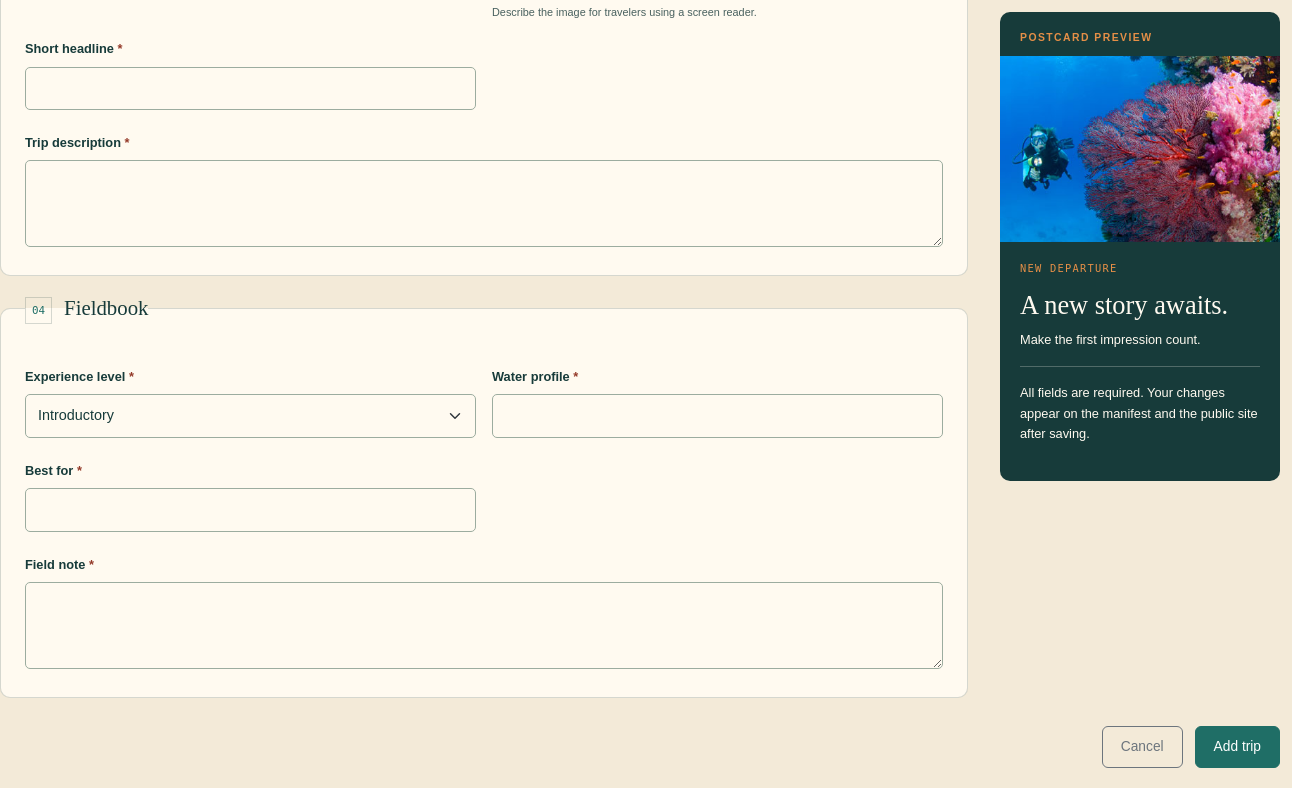
Test: Add trip › blocks invalid submission and displays field errors
(page scrolled)
Click the submit button: (1237, 747) x1=1195 y1=726 x2=1280 y2=768
(page scrolled)
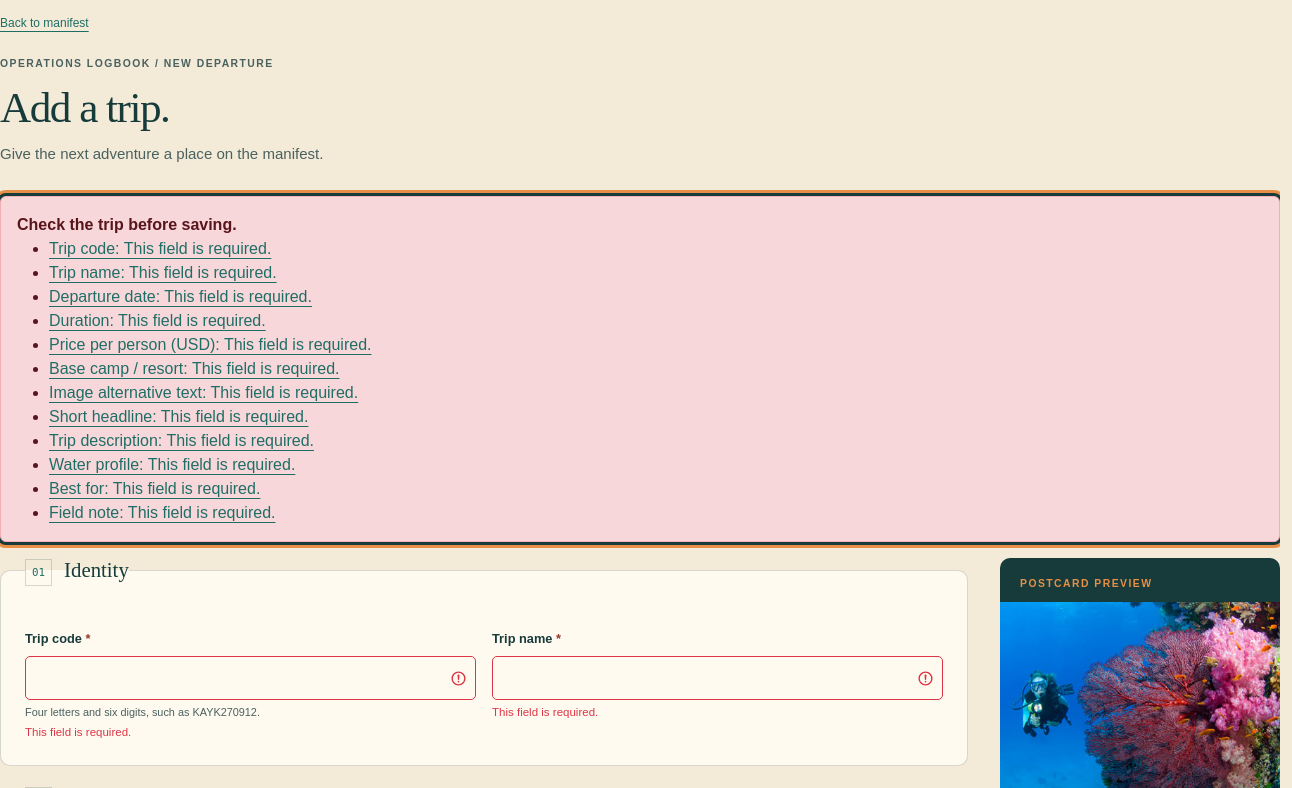
Expected: the message with id "form-error-summary" is shown, x1=0 y1=196 x2=1280 y2=542
